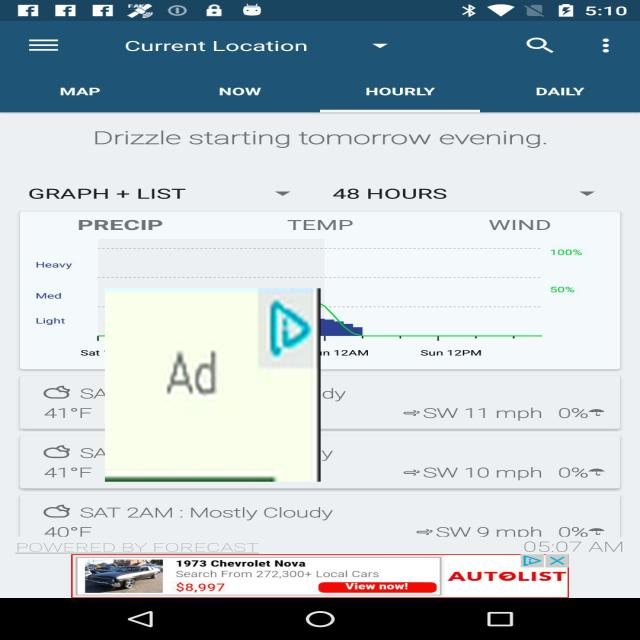sneaking: (105, 288, 320, 482)
